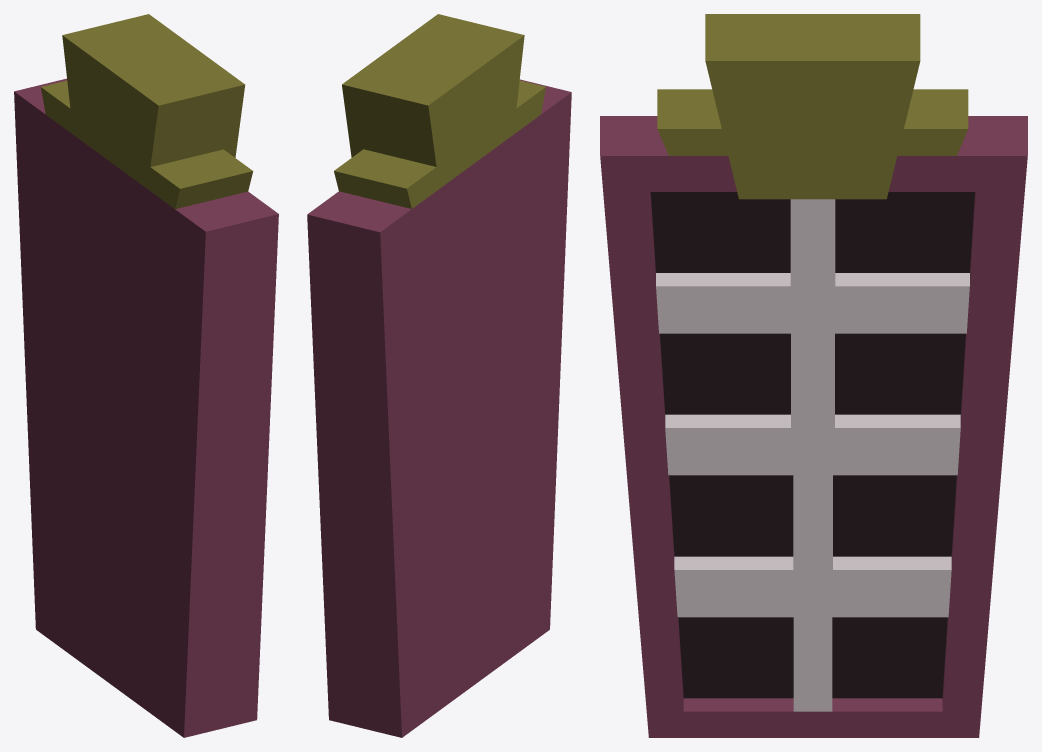
Rendered from factoryWindow.fbx.
The picture shows the model from 3 angles, left to right: view 1: azimuth 30°, elevation 25°; view 2: azimuth 150°, elevation 25°; view 3: azimuth 270°, elevation 25°; orthographic projection. The views are drawn at different scales.
Visible parts, largest first — view 1: pCube1; view 2: pCube1; view 3: pCube1.
Boxes of the visible parts, left/top/right/bottom form: pCube1: left=14, top=14, right=278, bottom=737; pCube1: left=307, top=14, right=571, bottom=737; pCube1: left=600, top=14, right=1027, bottom=737.
Bounding box in the file's own units: 1.19 × 8.02 × 4.54.
